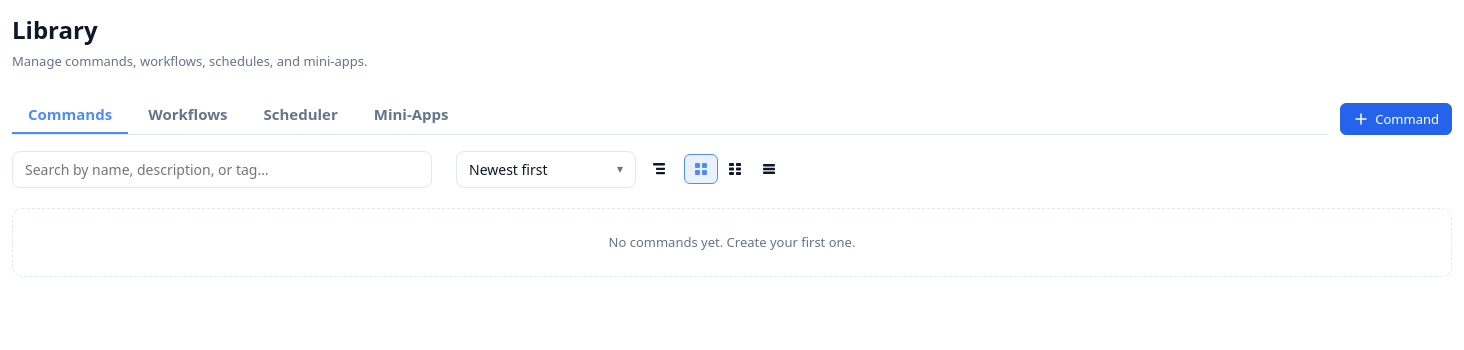
Library tabs › defaults to the Commands tab and switches to Workflows
This screenshot has width=1464, height=350.
Expected: the text "No commands yet. Create your first one." is shown, [12,208,1452,277]
Expected: the text "Deploy pipeline" is not shown
Switch to the Workflows tab.
Click the tab "Workflows": click(188, 114) [132,96,244,134]
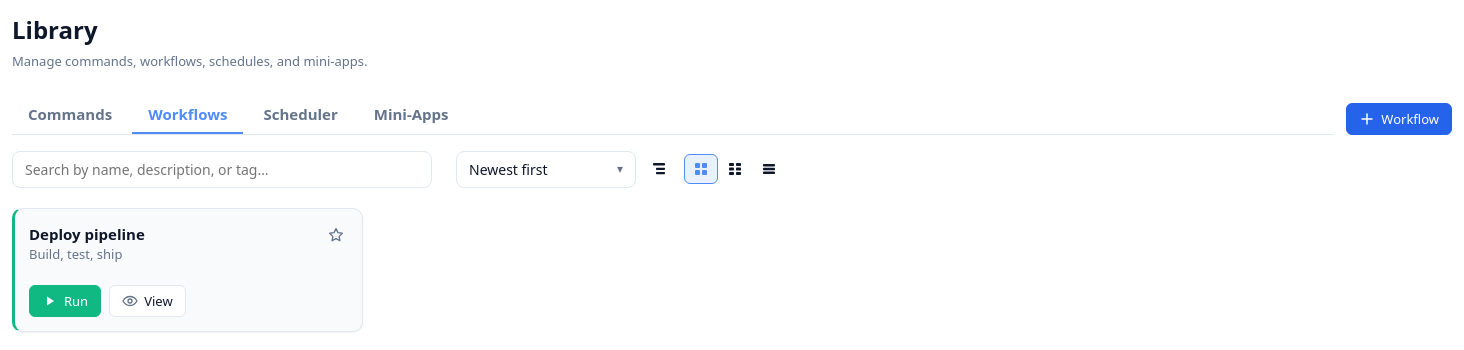
Expected: the heading "Deploy pipeline" is shown, [29,224,145,244]
Expected: the text "Build, test, ship" is shown, [29,245,122,263]
